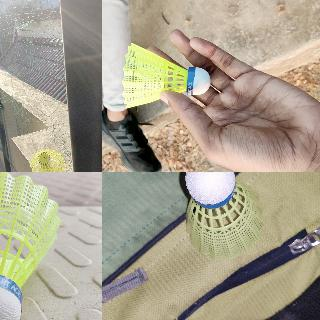shuttlecock: (0, 172, 61, 319), (184, 172, 265, 261), (120, 42, 212, 108), (29, 148, 65, 171)
